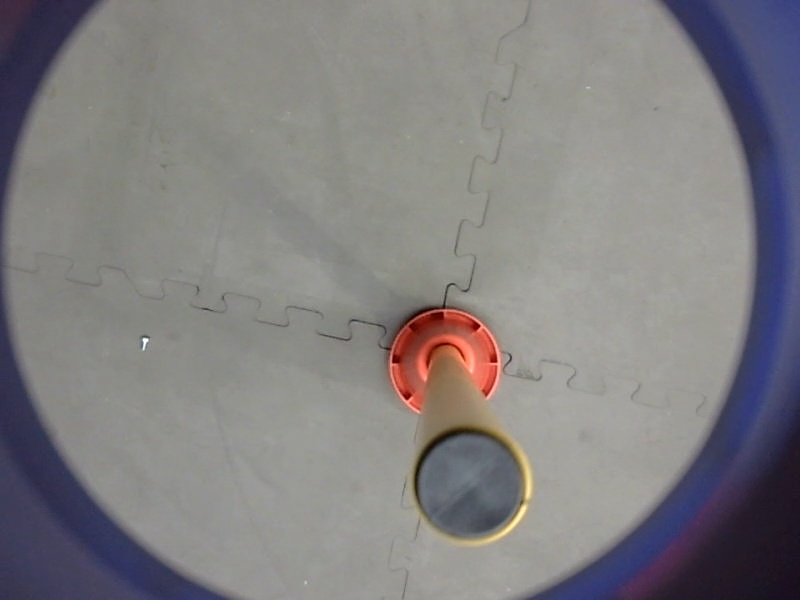tip: (404, 421, 539, 551)
